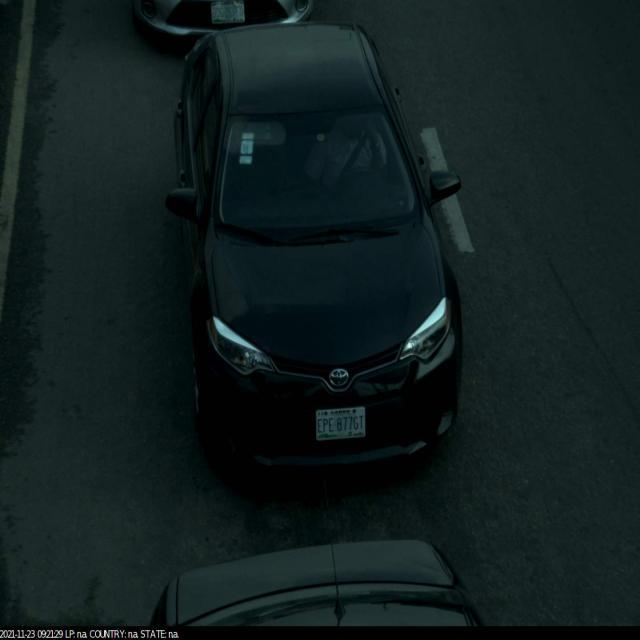windshield: (208, 99, 438, 254)
